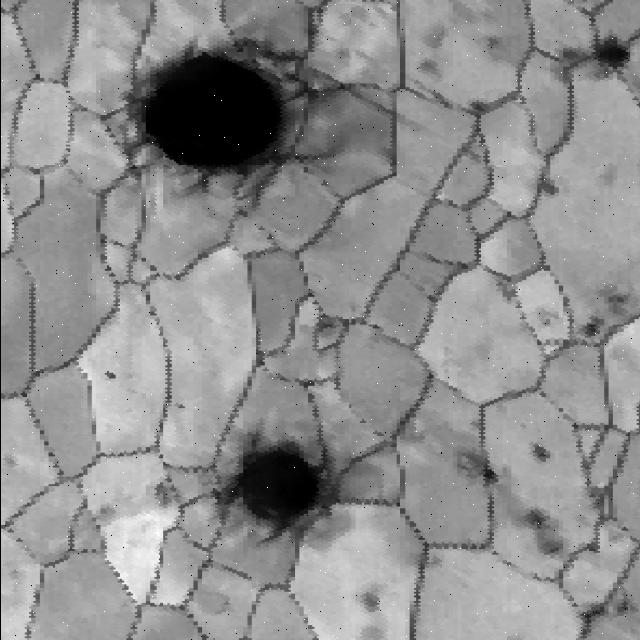good_void: (124, 36, 333, 195), (216, 429, 337, 546), (548, 33, 631, 84), (509, 505, 566, 560), (596, 284, 636, 319), (307, 309, 343, 341), (492, 271, 523, 307), (358, 587, 395, 615), (150, 475, 178, 509), (573, 317, 608, 341), (609, 591, 637, 617), (577, 604, 608, 627), (95, 499, 121, 524), (473, 459, 500, 483), (533, 434, 551, 462), (537, 175, 562, 195), (101, 366, 124, 385), (175, 396, 192, 416)
